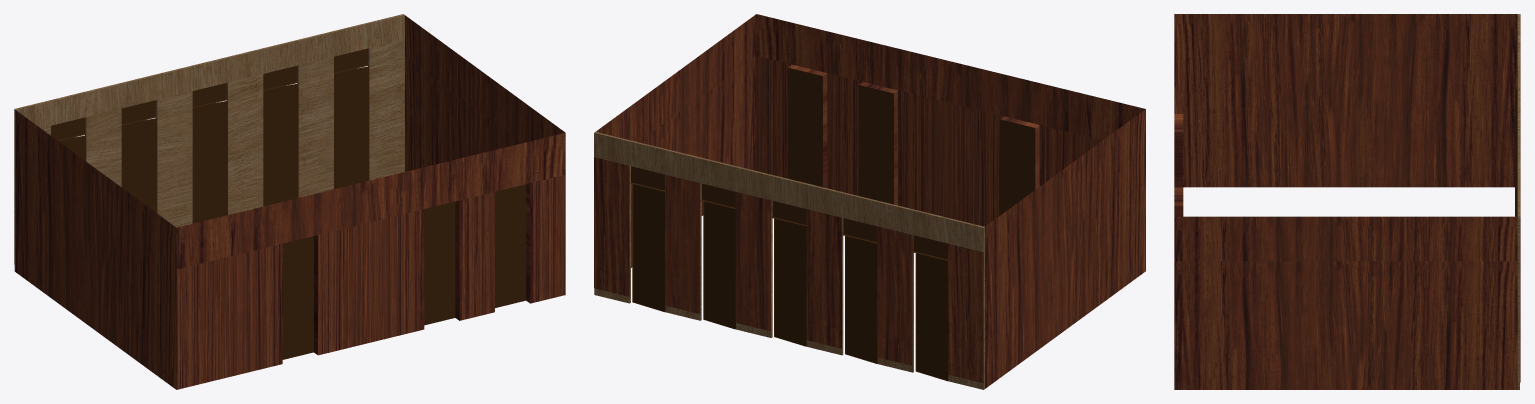
File: banios1.glb
The picture shows the model from 3 angles, left to right: view 1: azimuth 30°, elevation 25°; view 2: azimuth 150°, elevation 25°; view 3: azimuth 270°, elevation 25°; orthographic projection. The views are drawn at different scales.
Parts seen in each view (by area): view 1: caja, paredes, puertas0; view 2: caja, paredes, puertas0; view 3: caja, paredes, puertas0.
Part boxes in pixels (bbox=[...]): caja: bbox=[15, 15, 565, 389]; paredes: bbox=[14, 14, 404, 271]; puertas0: bbox=[51, 48, 369, 223]; caja: bbox=[596, 14, 1145, 388]; paredes: bbox=[594, 132, 984, 389]; puertas0: bbox=[630, 166, 948, 381]; caja: bbox=[1174, 14, 1517, 389]; paredes: bbox=[1517, 14, 1520, 389]; puertas0: bbox=[1515, 85, 1517, 216].
Bounding box in the file's own units: 39.66 × 15.8 × 28.63.
3 materials, 2 textured.
